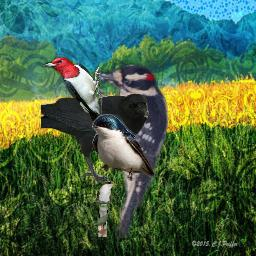Crow: (41, 93, 149, 183)
Cuckoo: (96, 180, 119, 237)
Swallow: (92, 114, 156, 181)
Woodpecker: (93, 61, 171, 238), (41, 57, 104, 124)
